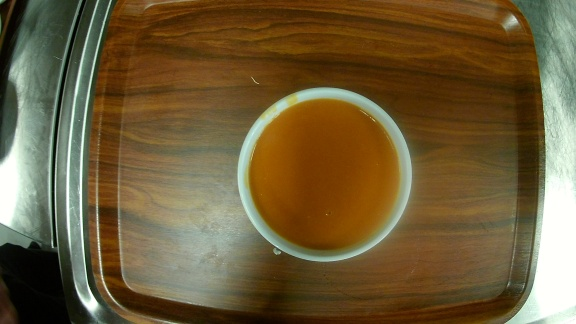domatescorba: (237, 87, 415, 263)
